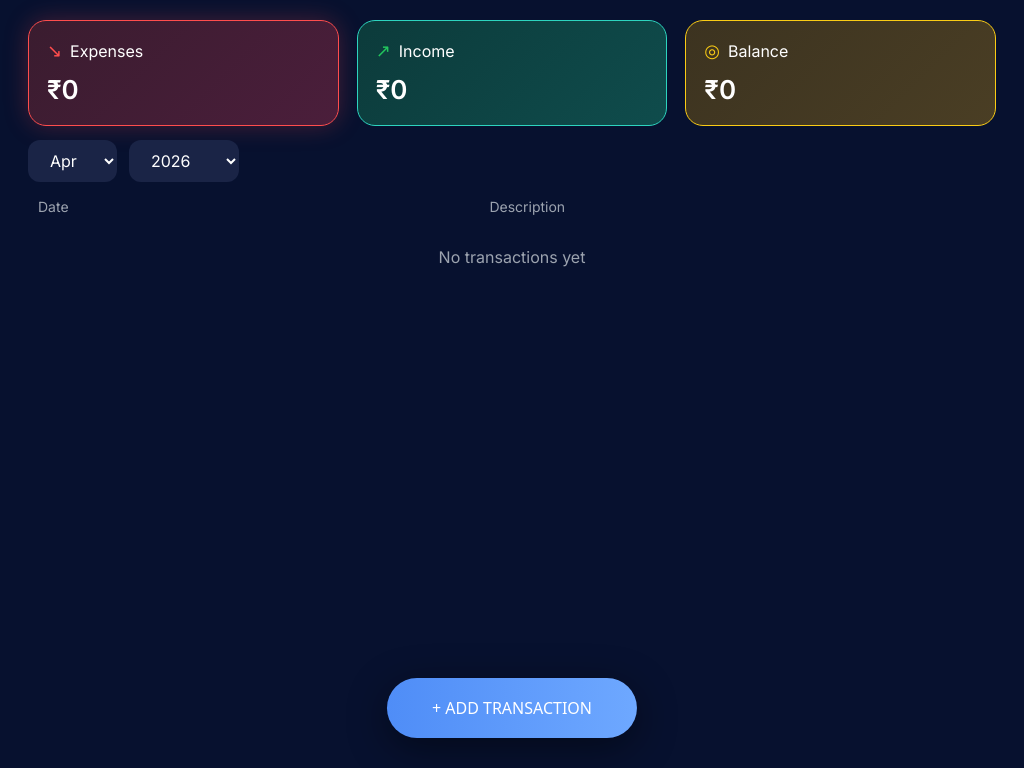
Test: Records transaction flow › opens the add transaction modal when the add transaction button is clicked
The width and height of the screenshot is (1024, 768).
Expected: the text "No transactions yet" is shown, x1=439 y1=247 x2=585 y2=267
What coordinates should you click on to do the following:
click the button "+ ADD TRANSACTION"
I would click on:
 (512, 708)
Its box is x1=387 y1=678 x2=637 y2=738.
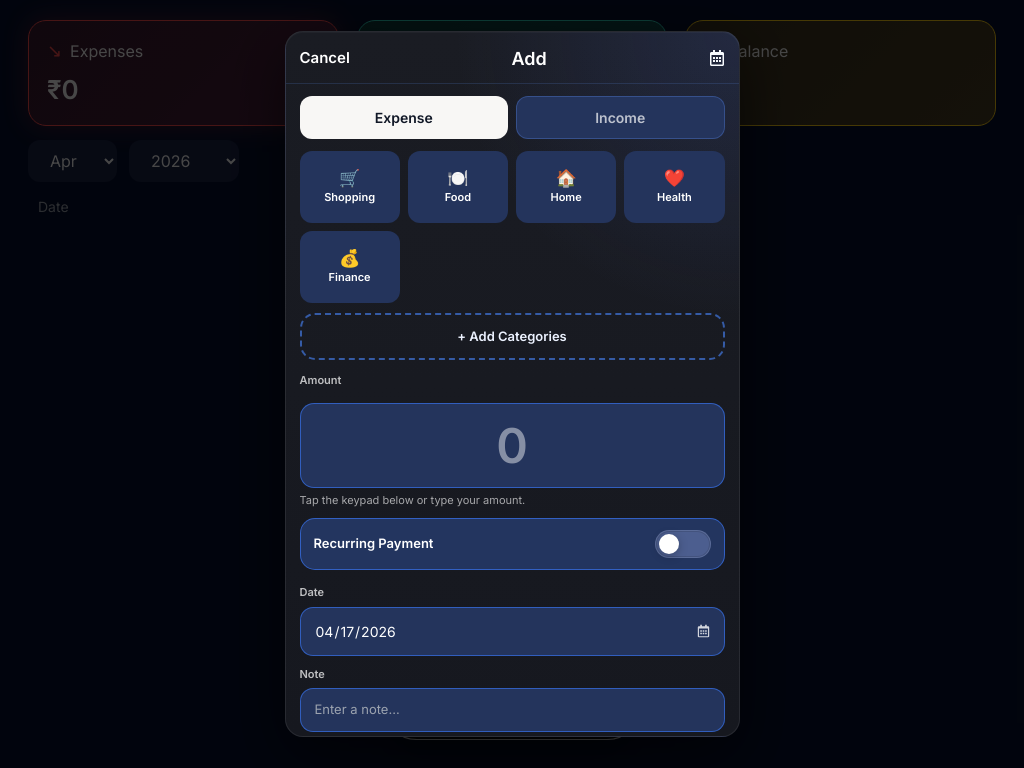
Expected: the heading "Add" is shown, x1=512 y1=45 x2=547 y2=72
Expected: the field with placeholder "0" is shown, x1=300 y1=403 x2=724 y2=488
Expected: the text "+ Add Categories" is shown, x1=300 y1=313 x2=724 y2=360
